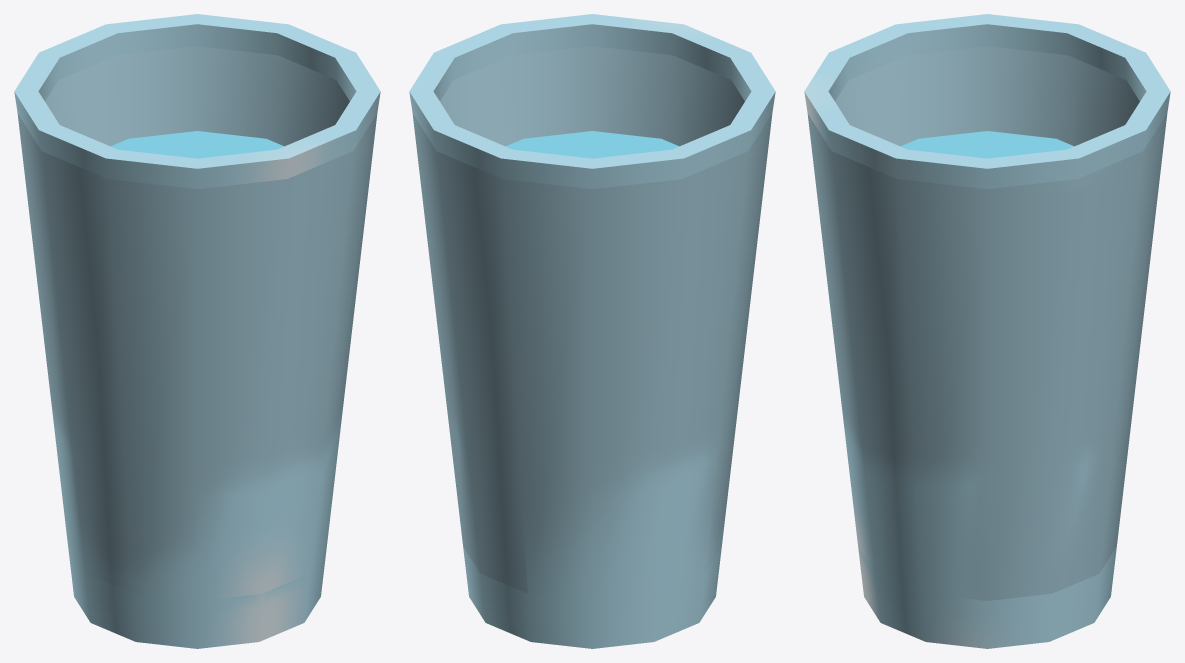
Rendered from water  low.fbx.
3 views of the same model, side by side, from view 1: azimuth 30°, elevation 25°; view 2: azimuth 150°, elevation 25°; view 3: azimuth 270°, elevation 25° (orthographic).
Parts seen in each view (by area): view 1: Cylinder.003, Cylinder.004; view 2: Cylinder.003, Cylinder.004; view 3: Cylinder.003, Cylinder.004.
Part boxes in pixels (x1=…): Cylinder.003: x1=14, y1=14, x2=380, y2=648; Cylinder.004: x1=111, y1=131, x2=283, y2=158; Cylinder.003: x1=409, y1=14, x2=775, y2=648; Cylinder.004: x1=506, y1=131, x2=678, y2=158; Cylinder.003: x1=804, y1=14, x2=1170, y2=648; Cylinder.004: x1=901, y1=131, x2=1073, y2=158.
Bounding box in the file's own units: 2.39 × 3.64 × 2.39.
